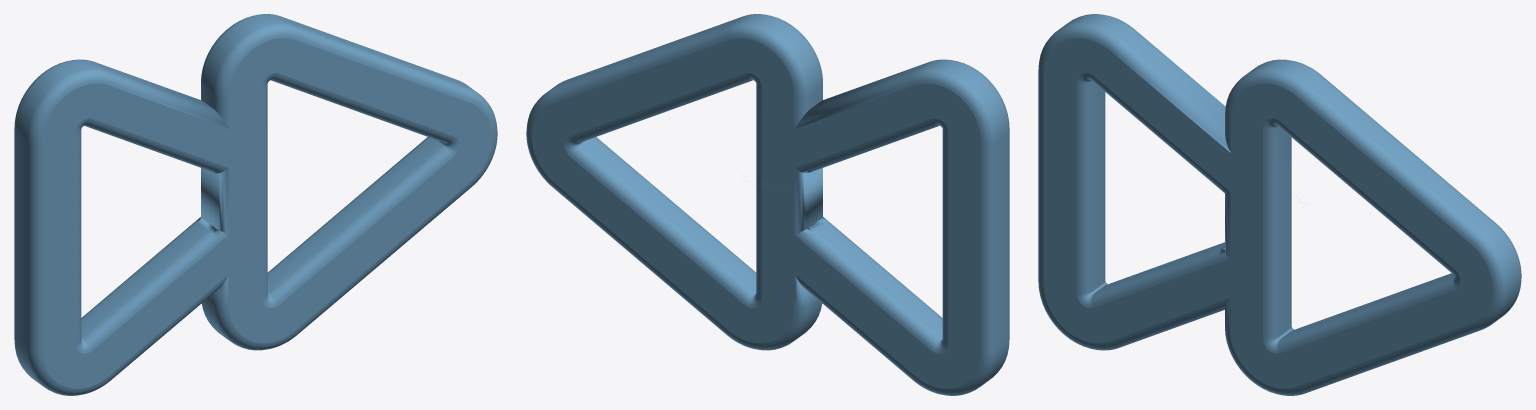
The picture shows the model from 3 angles, left to right: view 1: azimuth 30°, elevation 25°; view 2: azimuth 150°, elevation 25°; view 3: azimuth 330°, elevation 25°; orthographic projection.
Parts seen in each view (by area): view 1: Curve; view 2: Curve; view 3: Curve.
Boxes of the visible parts, x1,y1,x2,y2 form: Curve: (14,14,497,395); Curve: (526,14,1009,395); Curve: (1038,14,1521,395).
Size of the model in its own units: 2.39 by 1.58 by 0.2874.
